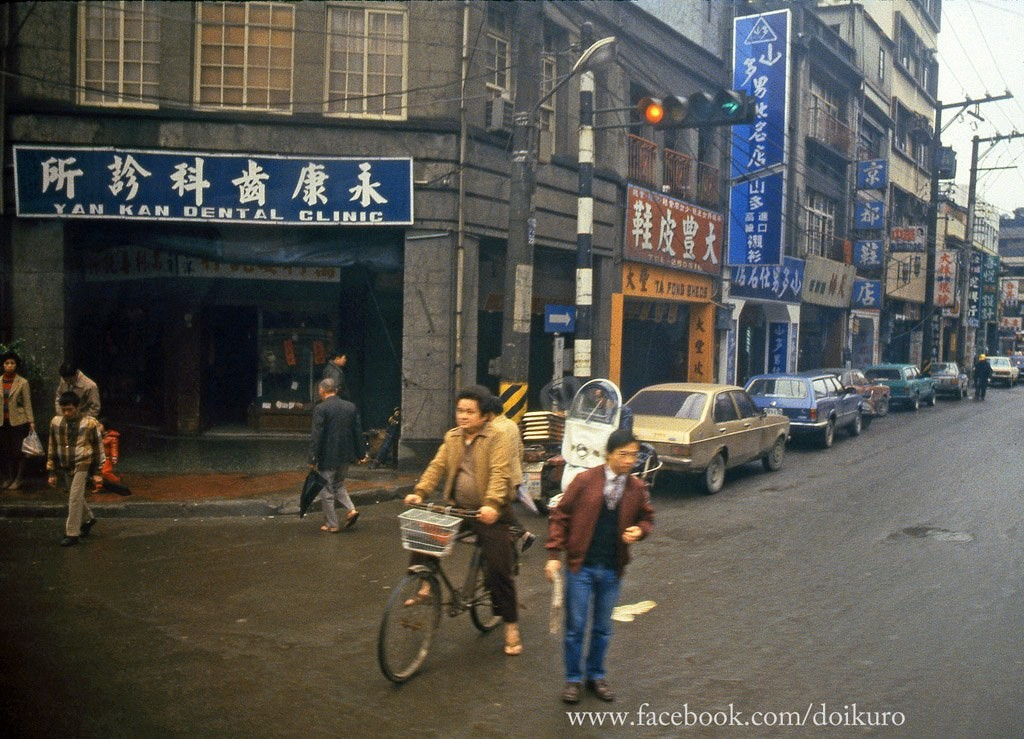people: (429, 387, 521, 648), (571, 431, 639, 700), (299, 379, 366, 528), (42, 390, 103, 532), (490, 395, 539, 505), (48, 361, 100, 450), (2, 344, 31, 476), (321, 348, 348, 410)
